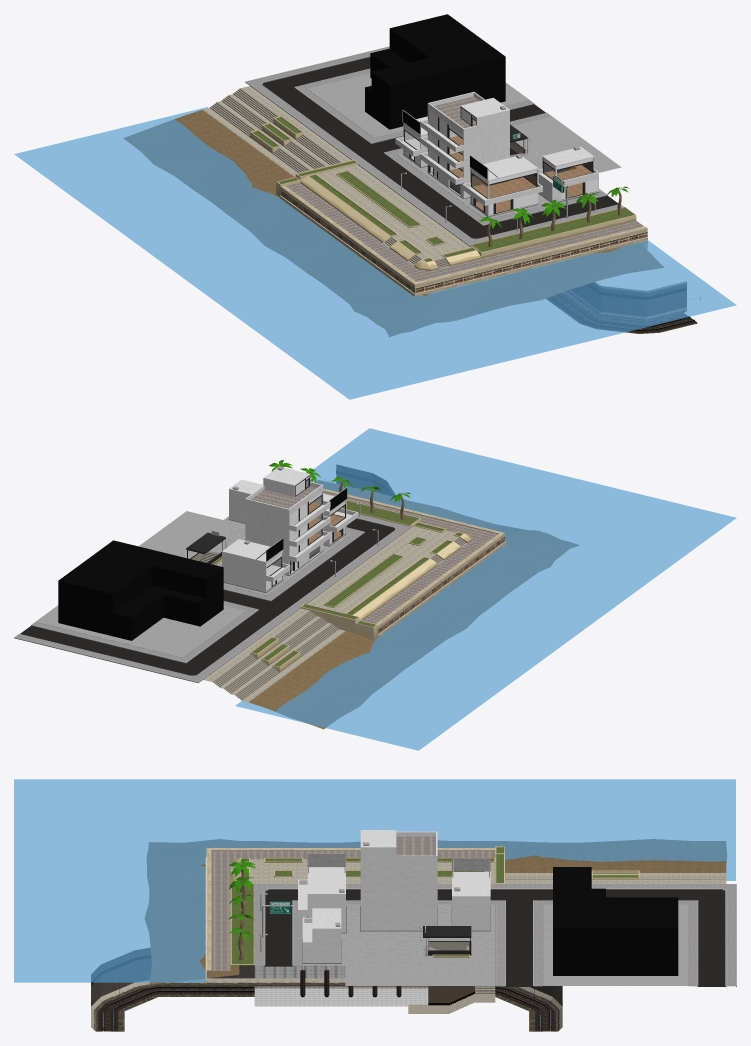
The model's file is docks.glb.
The picture shows the model from 3 angles, top to bottom: view 1: azimuth 30°, elevation 25°; view 2: azimuth 150°, elevation 25°; view 3: azimuth 270°, elevation 25°; orthographic projection. The views are drawn at different scales.
Parts seen in each view (by area): view 1: Plane.062, Plane.061, Cube.027, docks.006, docks.005, docks.001, docks.008, docks.137, docks.002, docks.023, Plane.056, docks.009 (+21 smaller); view 2: Plane.062, Plane.061, Cube.027, docks.005, docks.137, Plane.056, docks.006, docks.138, docks.001, docks.023, docks.034, docks.008 (+23 smaller); view 3: Plane.062, Plane.061, Cube.027, docks.023, docks.055, docks.137, docks.001, Plane.023, Plane.055, Plane.022, docks.140, Plane.056 (+30 smaller).
Boxes of the visible parts, <box> form: Plane.062: <box>14,107,736,399</box>; Plane.061: <box>123,110,664,336</box>; Cube.027: <box>365,14,505,129</box>; docks.006: <box>280,185,647,297</box>; docks.005: <box>317,164,470,268</box>; docks.001: <box>286,182,643,281</box>; docks.008: <box>368,157,618,238</box>; docks.137: <box>262,57,370,145</box>; docks.002: <box>300,170,481,270</box>; docks.023: <box>427,92,509,198</box>; Plane.056: <box>308,73,529,137</box>; docks.009: <box>359,154,623,244</box>; Plane.062: <box>235,428,736,750</box>; Plane.061: <box>248,480,579,729</box>; Cube.027: <box>58,540,223,640</box>; docks.005: <box>307,526,467,613</box>; docks.137: <box>20,613,273,675</box>; Plane.056: <box>36,605,245,657</box>; docks.006: <box>323,488,506,637</box>; docks.138: <box>15,611,282,681</box>; docks.001: <box>323,491,497,623</box>; docks.023: <box>245,481,323,575</box>; docks.034: <box>222,539,290,592</box>; docks.008: <box>276,519,395,602</box>; Plane.062: <box>14,779,735,982</box>; Plane.061: <box>145,839,726,984</box>; Cube.027: <box>553,867,678,975</box>; docks.023: <box>360,831,437,930</box>; docks.055: <box>345,932,495,965</box>; docks.137: <box>543,889,726,986</box>; docks.001: <box>211,851,495,970</box>; Plane.023: <box>91,978,562,1031</box>; Plane.055: <box>345,965,495,985</box>; Plane.022: <box>254,988,428,1006</box>; docks.140: <box>495,889,543,986</box>; Plane.056: <box>543,904,687,985</box>.
Size of the model in its own units: 110 by 34.9 by 150.
54 materials, 50 textured.
